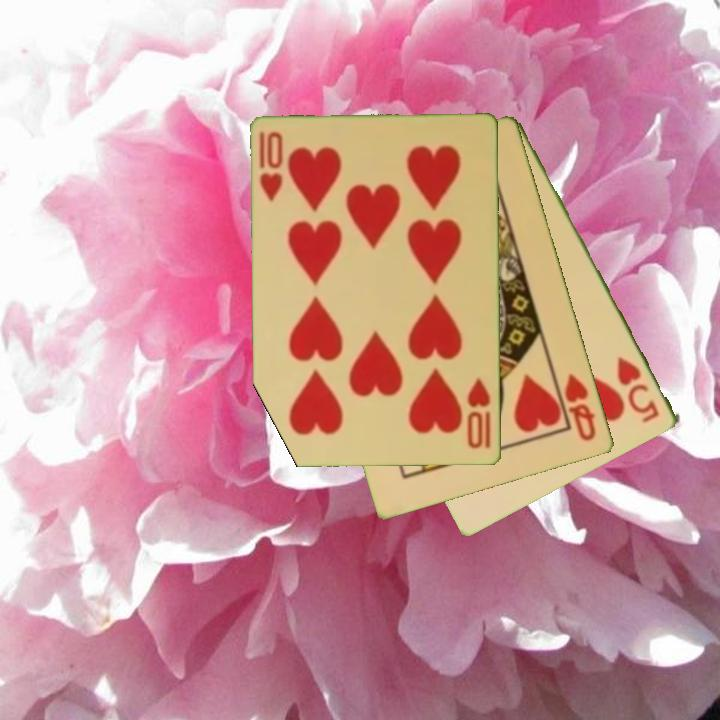10h: (464, 375, 494, 452), (256, 128, 286, 205)
5h: (614, 353, 663, 426)
Qh: (561, 370, 600, 445)
